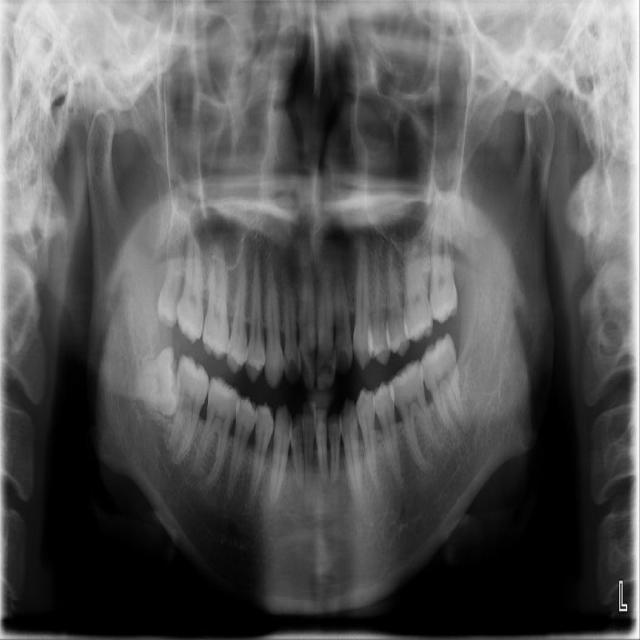3M ESPE Implant: (156, 229, 187, 330)
73: (592, 590, 596, 610)
BioHorizons Implant: (425, 211, 459, 325)
Blue Sky Bio Implant: (414, 331, 471, 445)
Caries: (176, 232, 204, 344)
Implant: (165, 354, 213, 464)
Keystone Dental Implant: (135, 345, 183, 417)
